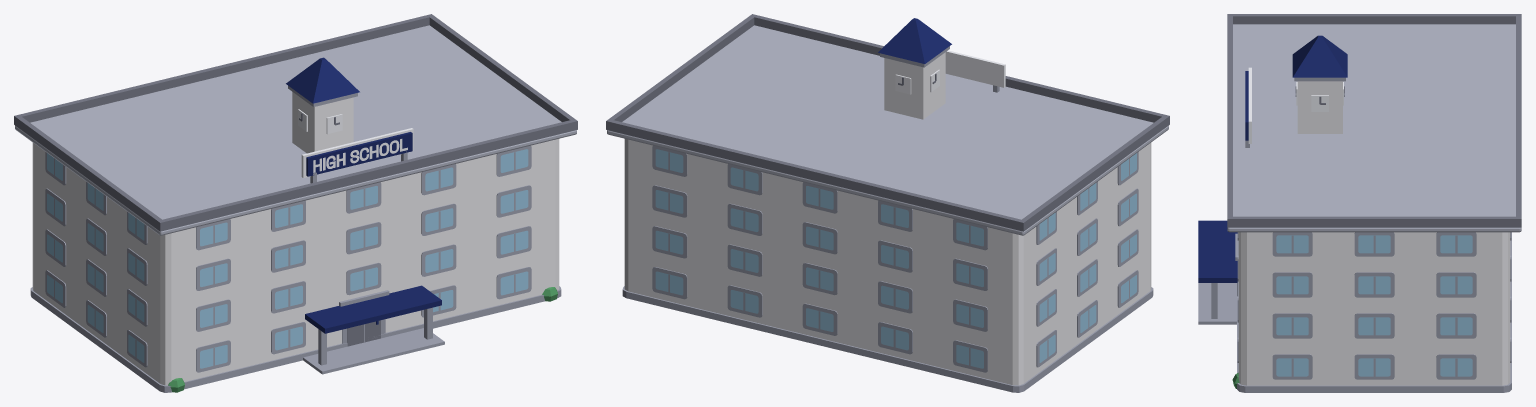
File: high-school-3x2-4f.glb
3 views of the same model, side by side, from view 1: azimuth 30°, elevation 25°; view 2: azimuth 150°, elevation 25°; view 3: azimuth 270°, elevation 25° (orthographic).
Visible parts, largest first — view 1: high-school-3x2-4f; view 2: high-school-3x2-4f; view 3: high-school-3x2-4f.
Boxes of the visible parts, x1,y1,x2,y2 form: high-school-3x2-4f: [14, 14, 577, 392]; high-school-3x2-4f: [606, 14, 1169, 392]; high-school-3x2-4f: [1198, 14, 1521, 392].
Size of the model in its own units: 3 by 1.76 by 2.
1 material, 1 textured.
